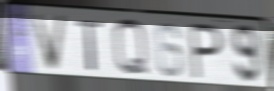6: (154, 22, 184, 79)
9: (230, 23, 263, 87)
P: (188, 21, 225, 83)
Q: (111, 17, 151, 79)
T: (75, 18, 105, 73)
V: (31, 13, 70, 73)
